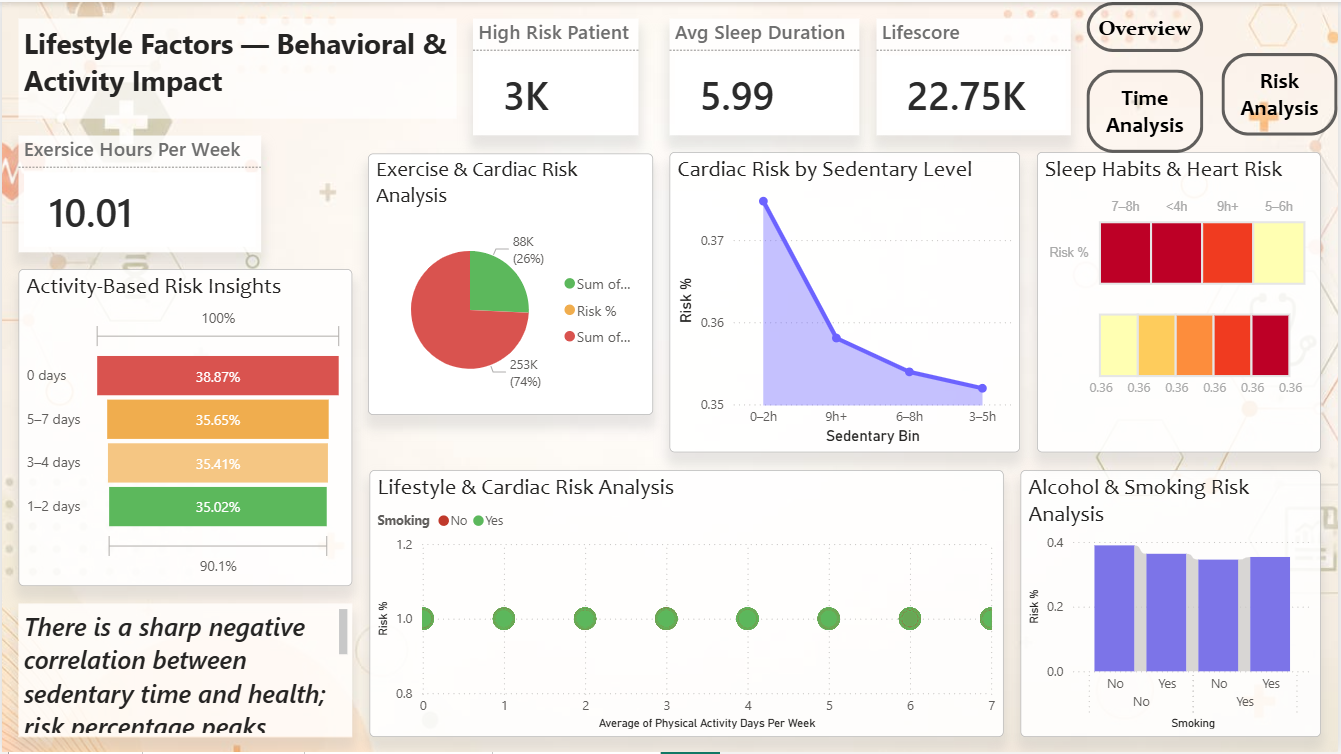

Layout of this report page (visuals, bound fields, positions):
{"tool":"powerbi","page":{"name":"Lifestyle Impact","canvas":[1280,720],"ordinal":2},"visuals":[{"type":"cardVisual","title":"High Risk Patient","fields":{"Data":["fact_heart_attack.High Risk Patients"]},"box":[450.9,16,158.5,112],"z":0},{"type":"cardVisual","title":"Exersice Hours Per Week","fields":{"Data":["Avg(dim_lifestyle.Exercise Hours Per Week)"]},"box":[16.3,128.5,232.7,112.3],"z":1000},{"type":"cardVisual","title":"Avg Sleep Duration","fields":{"Data":["dim_lifestyle.Avg Sedentary Hours"]},"box":[640,16,181.8,112],"z":2000},{"type":"cardVisual","title":"Lifescore","fields":{"Data":["Sum(dim_lifestyle.LifestyleScore)"]},"box":[837.8,16,186.2,112],"z":3000},{"type":"columnChart","title":"Alcohol & Smoking Risk Analysis","fields":{"Category":["dim_lifestyle.Alcohol Consumption","dim_lifestyle.Smoking"],"Y":["fact_heart_attack.Risk %"]},"box":[976,448,288,256],"z":4000},{"type":"pieChart","title":"Exercise & Cardiac Risk Analysis","fields":{"Y":["Sum(dim_lifestyle.Exercise Hours Per Week)","fact_heart_attack.Risk %","Sum(fact_heart_attack.BMI)"]},"box":[351.5,144.8,273.4,250.6],"z":5000},{"type":"areaChart","title":"Cardiac Risk by Sedentary Level","fields":{"Y":["fact_heart_attack.Risk %"],"Category":["dim_lifestyle.Sedentary Bin"]},"box":[640,144,336,288],"z":6000},{"type":"scatterChart","title":"Lifestyle & Cardiac Risk Analysis","fields":{"X":["Avg(dim_lifestyle.Physical Activity Days Per Week)"],"Y":["fact_heart_attack.Risk %"],"Category":["dim_lifestyle.Patient ID"],"Size":["Sum(fact_heart_attack.BMI)"],"Series":["dim_lifestyle.Smoking"]},"box":[352,448,608,256],"z":7000},{"type":"TableHeatMap1443716069308","title":"Sleep Habits & Heart Risk","fields":{"Category":["dim_lifestyle.Sleep Bin"],"Y":["fact_heart_attack.Risk %"]},"box":[992,144,272,288],"z":8000},{"type":"funnel","title":"Activity-Based Risk Insights","fields":{"Category":["dim_lifestyle.Activity Group"],"Y":["fact_heart_attack.Risk %"]},"box":[16,256,320,304],"z":9000},{"type":"textbox","box":[16.3,16.3,419.8,96],"z":10000},{"type":"textbox","box":[16,576,320,128],"z":11000},{"type":"actionButton","box":[1040,0,112,48],"z":12000},{"type":"actionButton","box":[1168.8,48.8,111.2,79.2],"z":13000},{"type":"actionButton","box":[1040,64,112,80],"z":14000}]}

Visuals, with their boxes in screenshot pixels (x1, y1, x2, y2), scaled from the page's 1280x720 canvas onto the 1341x754 screenshot:
"High Risk Patient" cardVisual: [472,17,638,134]
"Exersice Hours Per Week" cardVisual: [17,135,261,252]
"Avg Sleep Duration" cardVisual: [670,17,861,134]
"Lifescore" cardVisual: [878,17,1073,134]
"Alcohol & Smoking Risk Analysis" columnChart: [1023,469,1324,737]
"Exercise & Cardiac Risk Analysis" pieChart: [368,152,655,414]
"Cardiac Risk by Sedentary Level" areaChart: [670,151,1023,452]
"Lifestyle & Cardiac Risk Analysis" scatterChart: [369,469,1006,737]
"Sleep Habits & Heart Risk" TableHeatMap1443716069308: [1039,151,1324,452]
"Activity-Based Risk Insights" funnel: [17,268,352,586]
textbox: [17,17,457,118]
textbox: [17,603,352,737]
actionButton: [1090,0,1207,50]
actionButton: [1225,51,1340,134]
actionButton: [1090,67,1207,151]
